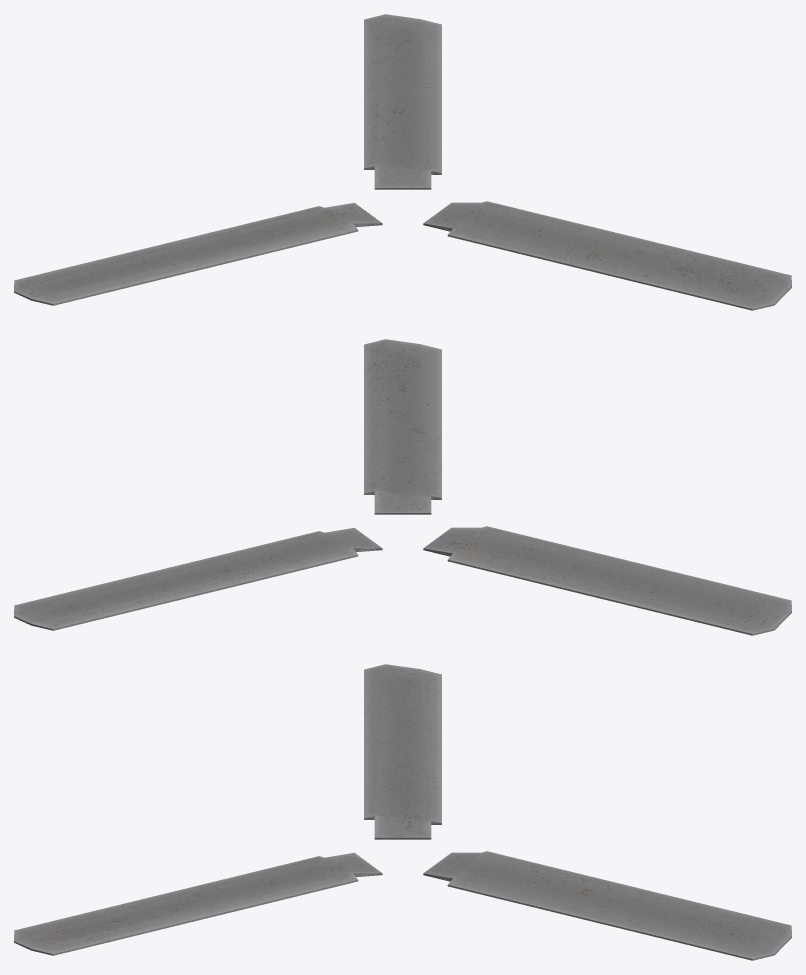
File: CeilingFanBlade.fbx
3 views of the same model, one above another, from view 1: azimuth 30°, elevation 25°; view 2: azimuth 150°, elevation 25°; view 3: azimuth 270°, elevation 25° (orthographic).
Visible parts, largest first — view 1: fanBlades1; view 2: fanBlades1; view 3: fanBlades1.
Part boxes in pixels (bbox=[...]): fanBlades1: bbox=[14, 14, 791, 310]; fanBlades1: bbox=[14, 339, 791, 635]; fanBlades1: bbox=[14, 664, 791, 960].
Bounding box in the file's own units: 219 × 3.16 × 249.
Materials: 1 (1 with a texture image).
